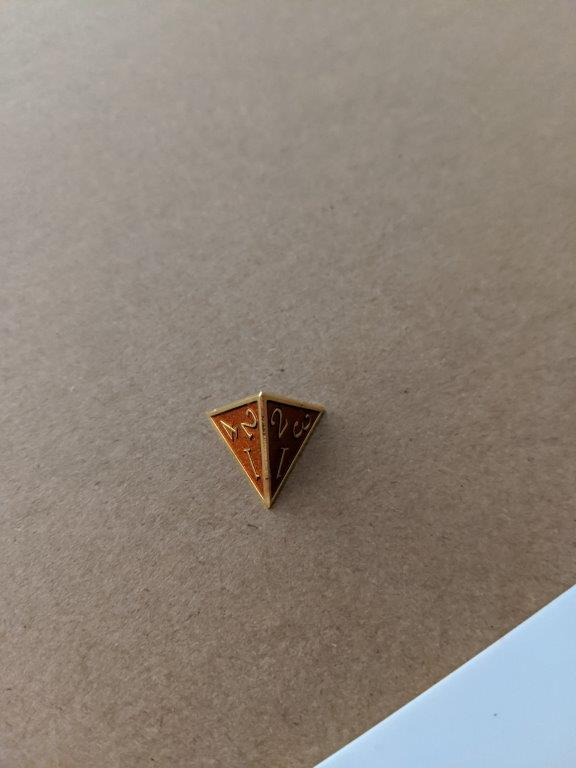d4-2: (203, 390, 331, 511)
